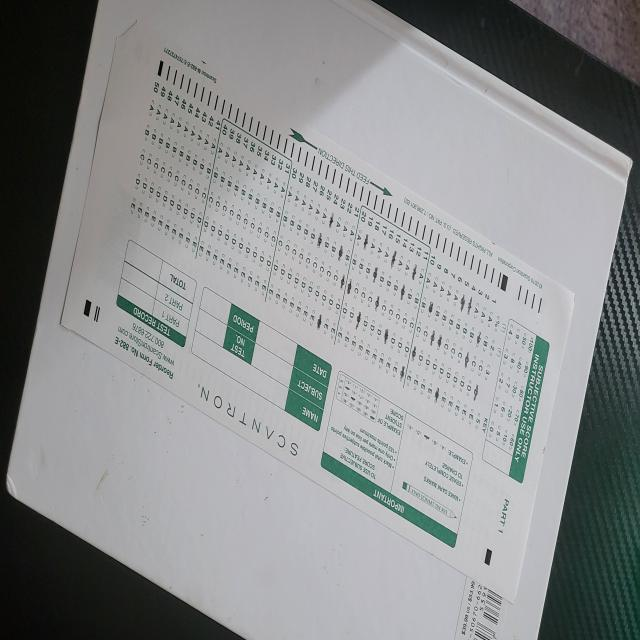scantron: (60, 20, 575, 606)
